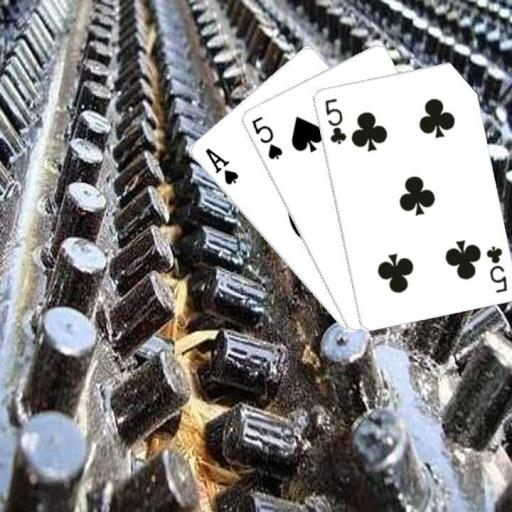5C: (321, 95, 348, 146), (483, 243, 508, 294)
5S: (247, 113, 284, 161)
AS: (201, 145, 240, 187)
